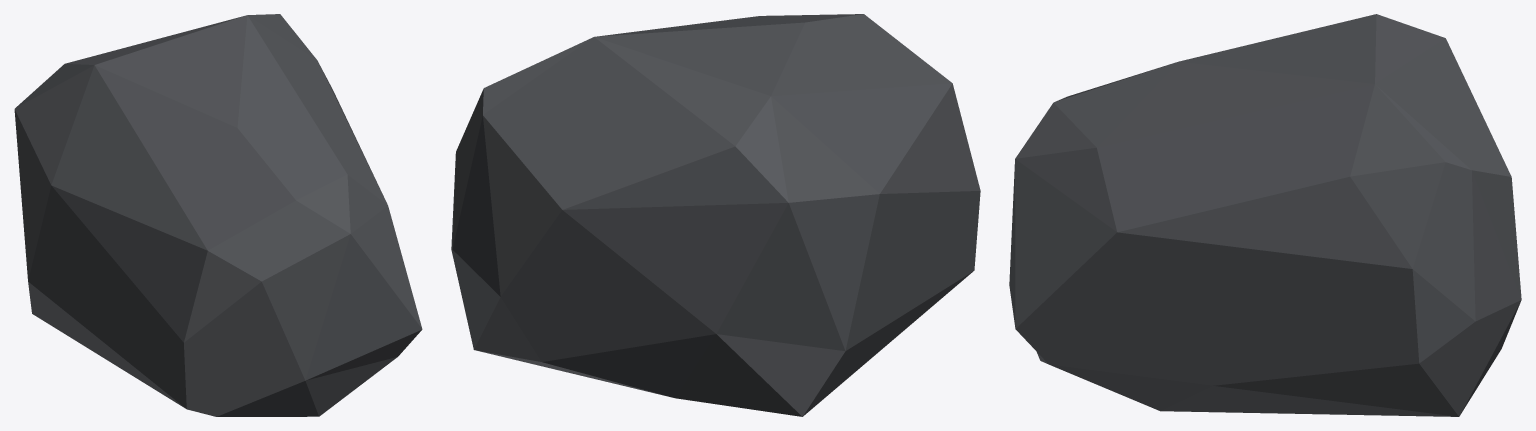
The model's file is Rock_01.fbx.
3 views of the same model, side by side, from view 1: azimuth 30°, elevation 25°; view 2: azimuth 150°, elevation 25°; view 3: azimuth 270°, elevation 25° (orthographic). The views are drawn at different scales.
Parts seen in each view (by area): view 1: Rock_01; view 2: Rock_01; view 3: Rock_01.
Boxes of the visible parts, box(x1,y1,x2,y2) form: Rock_01: box(14, 14, 422, 416); Rock_01: box(451, 14, 980, 416); Rock_01: box(1009, 14, 1521, 416).
Bounding box in the file's own units: 0.7312 × 0.6299 × 0.8735.
